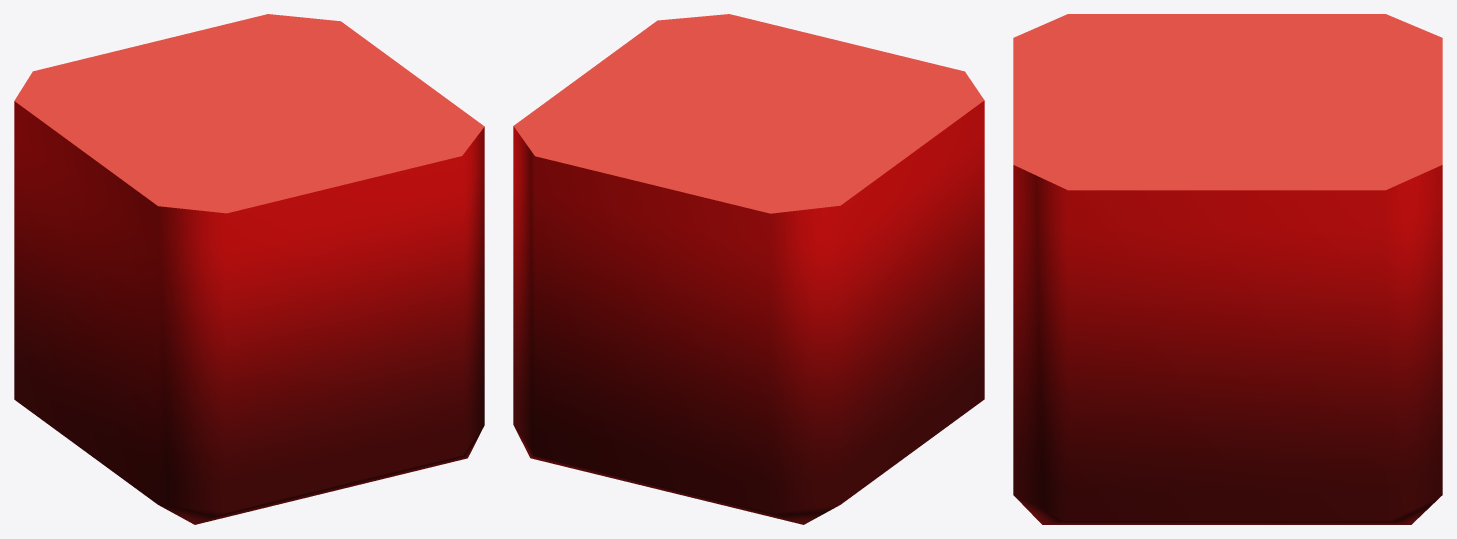
File: Potion_F_M_Liquid.fbx
3 views of the same model, side by side, from view 1: azimuth 30°, elevation 25°; view 2: azimuth 150°, elevation 25°; view 3: azimuth 270°, elevation 25° (orthographic). The views are drawn at different scales.
Parts seen in each view (by area): view 1: Potion_F_M_Liquid; view 2: Potion_F_M_Liquid; view 3: Potion_F_M_Liquid.
Part boxes in pixels (bbox=[...]): Potion_F_M_Liquid: bbox=[14, 14, 484, 524]; Potion_F_M_Liquid: bbox=[513, 14, 984, 524]; Potion_F_M_Liquid: bbox=[1013, 14, 1442, 524].
Size of the model in its own units: 41.36 by 38.29 by 42.55.
1 material, 1 textured.
